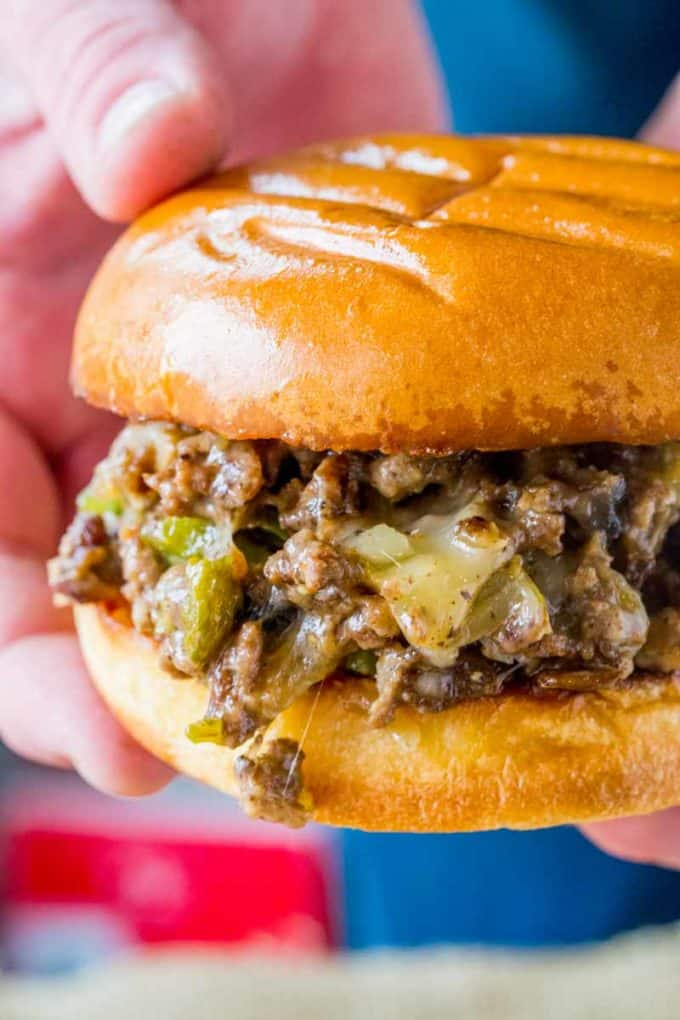hamburger_buns: (77, 118, 680, 433), (68, 648, 680, 857)
